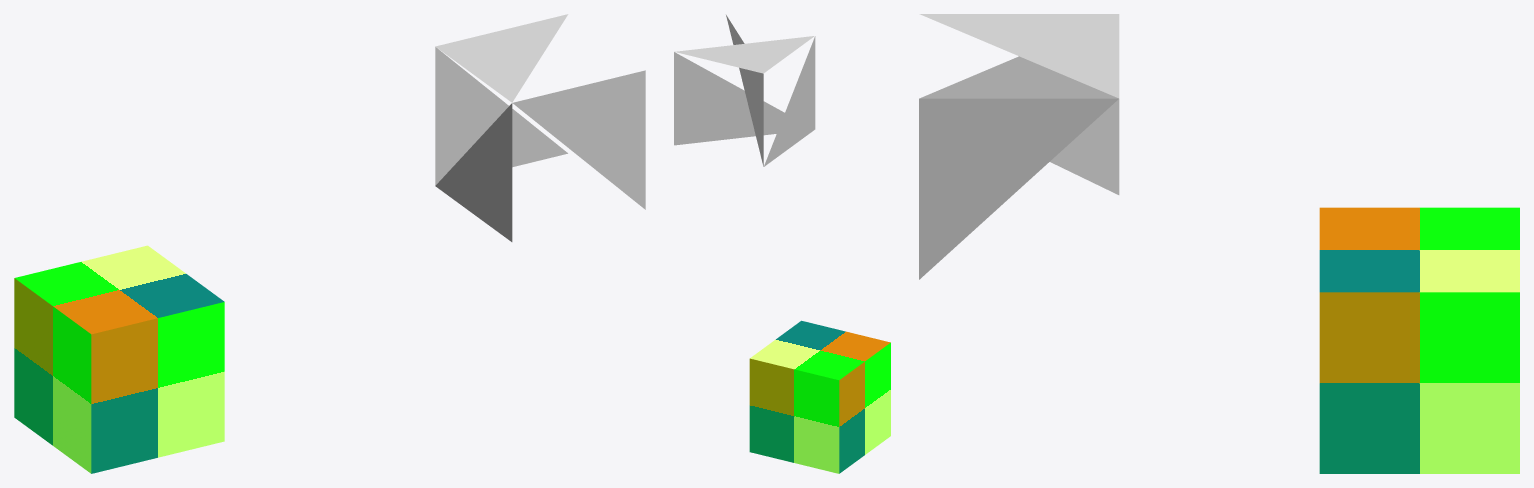
The picture shows the model from 3 angles, left to right: view 1: azimuth 30°, elevation 25°; view 2: azimuth 150°, elevation 25°; view 3: azimuth 270°, elevation 25°; orthographic projection. The views are drawn at different scales.
Visible parts, largest first — view 1: Child, Twisted; view 2: Child, Twisted; view 3: Child, Twisted.
Part boxes in pixels (bbox=[...]): Child: bbox=[14, 245, 224, 473]; Twisted: bbox=[435, 14, 645, 241]; Child: bbox=[749, 320, 890, 473]; Twisted: bbox=[674, 15, 815, 166]; Child: bbox=[1319, 207, 1519, 473]; Twisted: bbox=[919, 14, 1119, 279].
Bounding box in the file's own units: 6 × 6 × 6.
2 materials, 1 textured.
